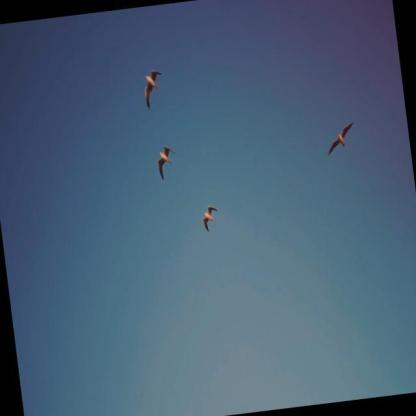bird: (322, 120, 359, 159), (141, 67, 169, 111), (152, 142, 180, 183), (200, 202, 221, 236)
